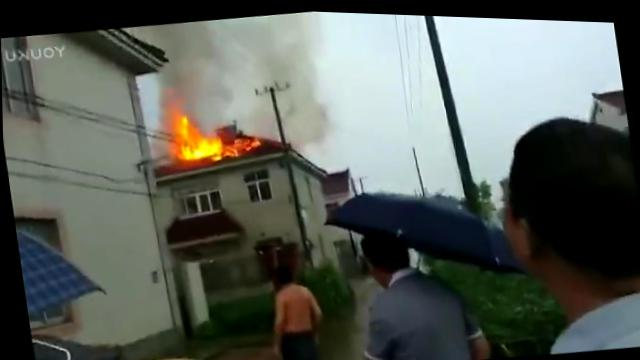fire: (177, 133, 223, 162), (163, 111, 202, 140), (223, 132, 256, 155)
